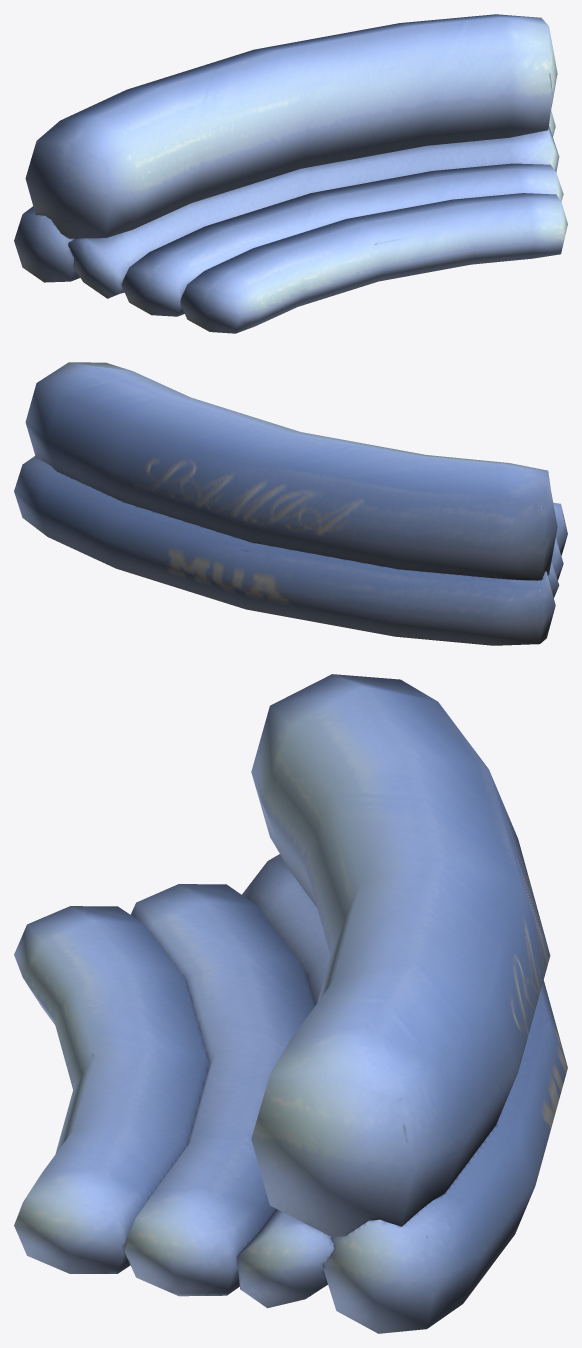
File: Sofa.glb
3 renders of one model, top to bottom at view 1: azimuth 30°, elevation 25°; view 2: azimuth 150°, elevation 25°; view 3: azimuth 270°, elevation 25°, orthographic. The views are drawn at different scales.
Parts seen in each view (by area): view 1: Cube.006; view 2: Cube.006; view 3: Cube.006.
Part boxes in pixels (x1=…): Cube.006: x1=14, y1=14, x2=567, y2=333; Cube.006: x1=14, y1=362, x2=567, y2=645; Cube.006: x1=14, y1=674, x2=567, y2=1333.
Size of what is drawn, in the model's own units: 2.41 by 0.714 by 1.28.
1 material, 1 textured.
